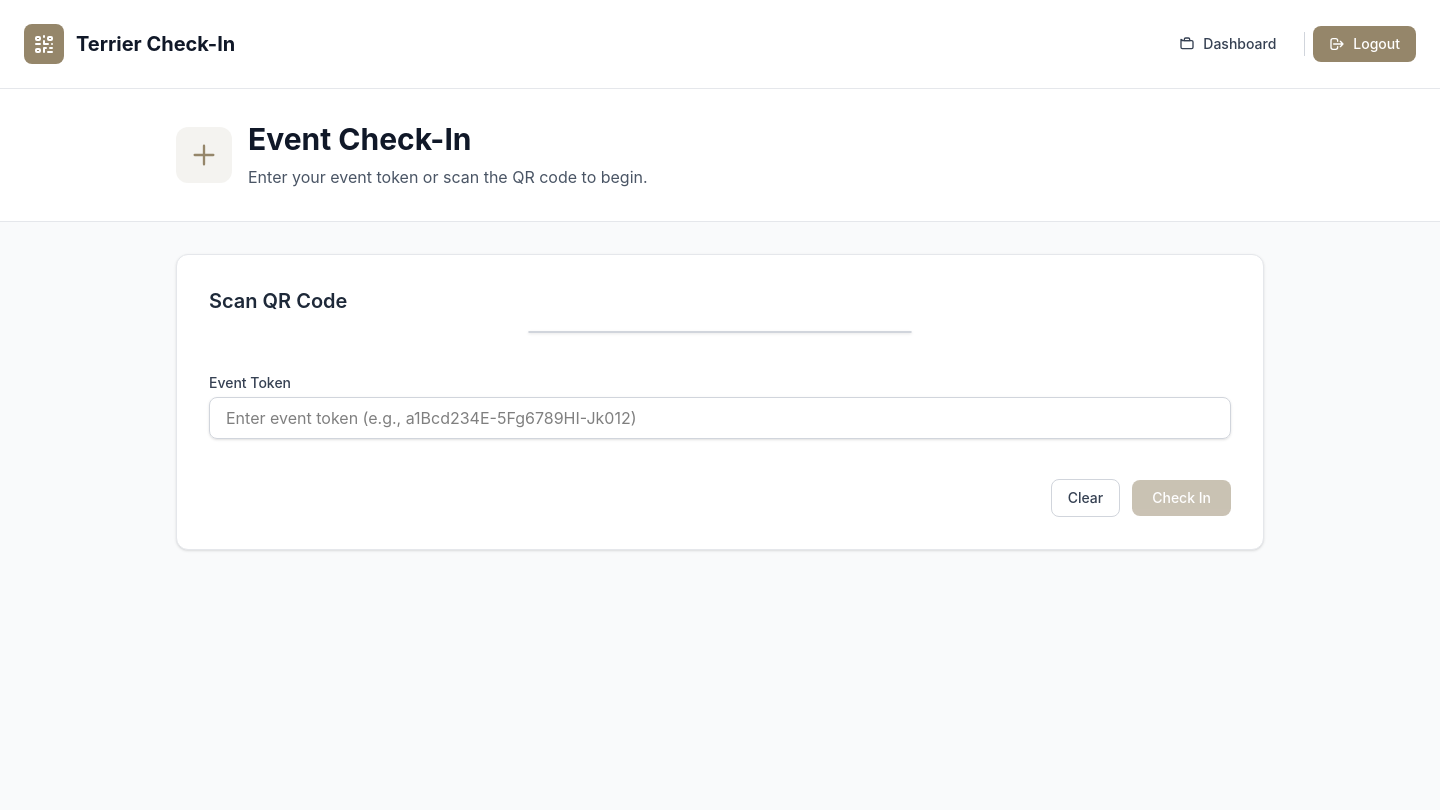
CheckInStart Enhanced Coverage › clears error when user starts typing after error
The width and height of the screenshot is (1440, 810).
Submit the form, box [209,373,1231,517]
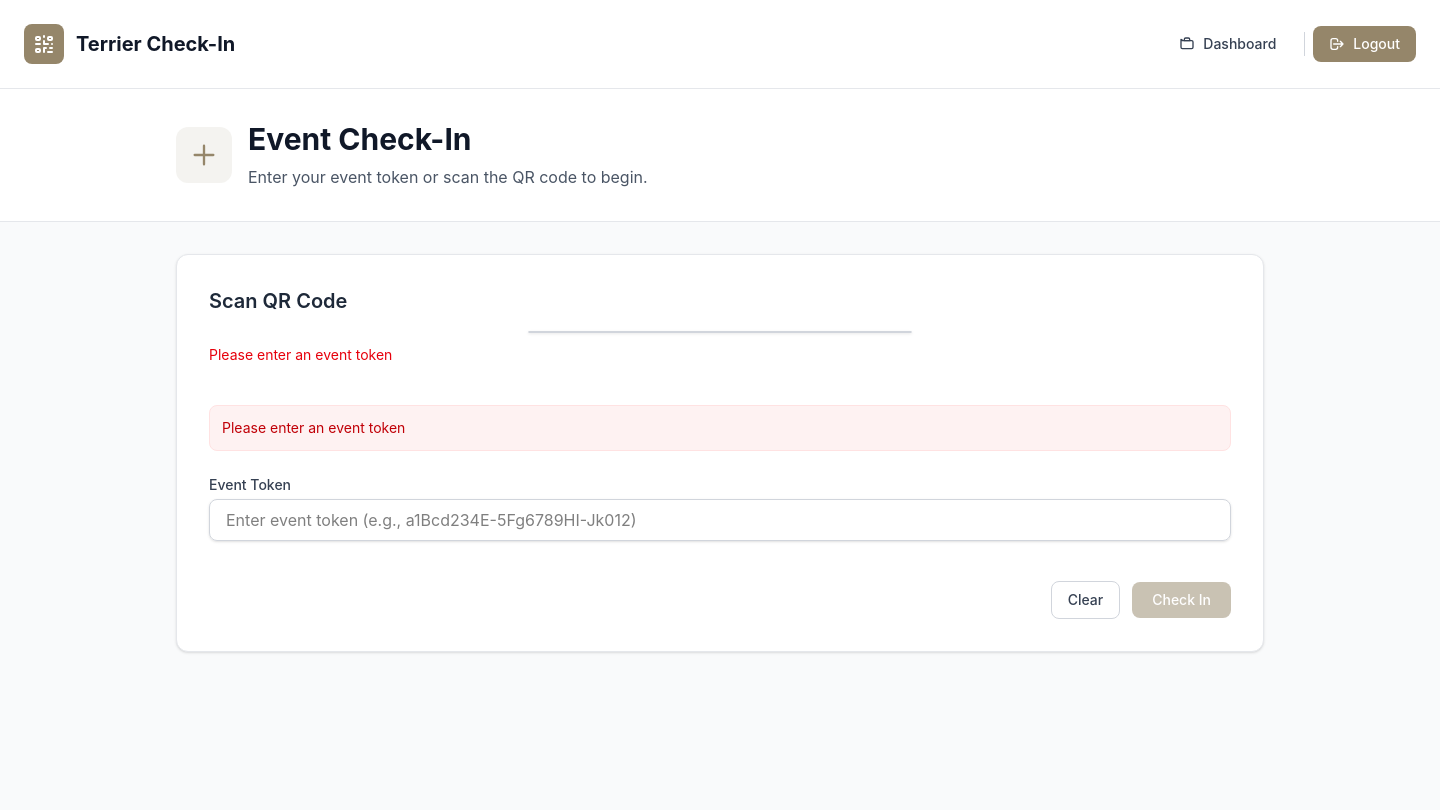
Now the text "Please enter an event token" below "Scan QR Code" is shown, box [209,346,392,363]
// Then type something and submit again (this should clear the error)
Type "new-token" into the field at (720, 520), box [209,499,1231,541]
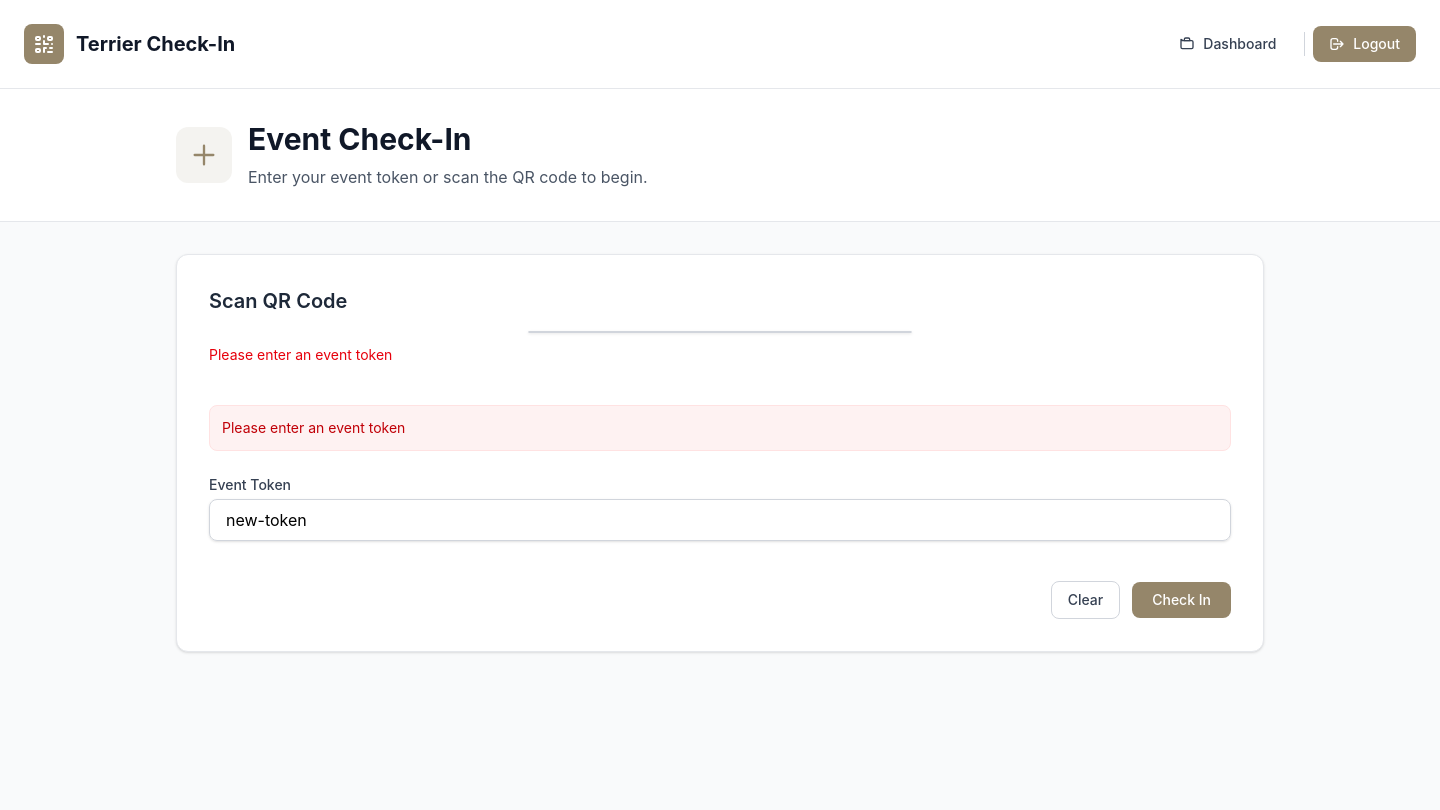
Submit the form, box [209,405,1231,619]
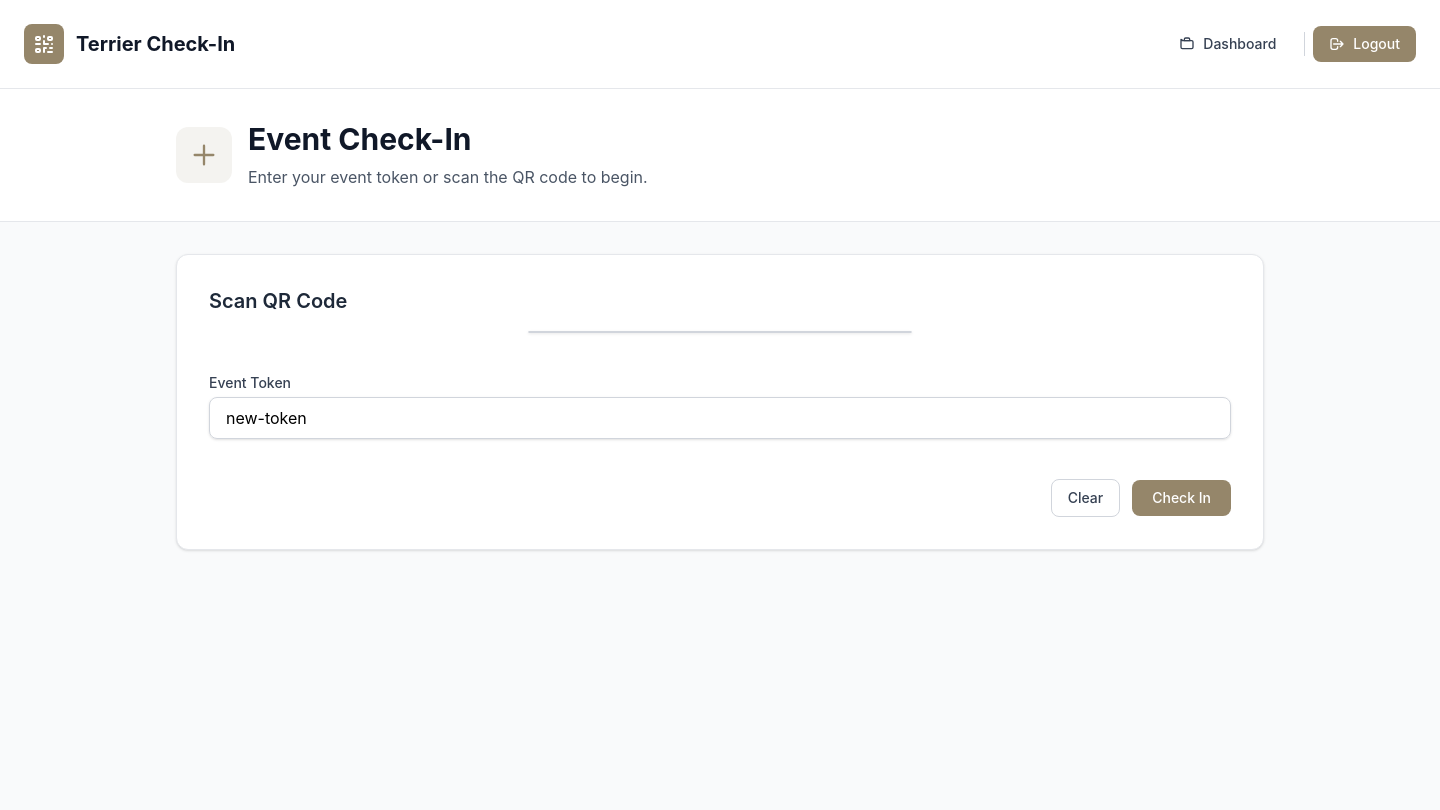
Now the text "Please enter an event token" is gone
